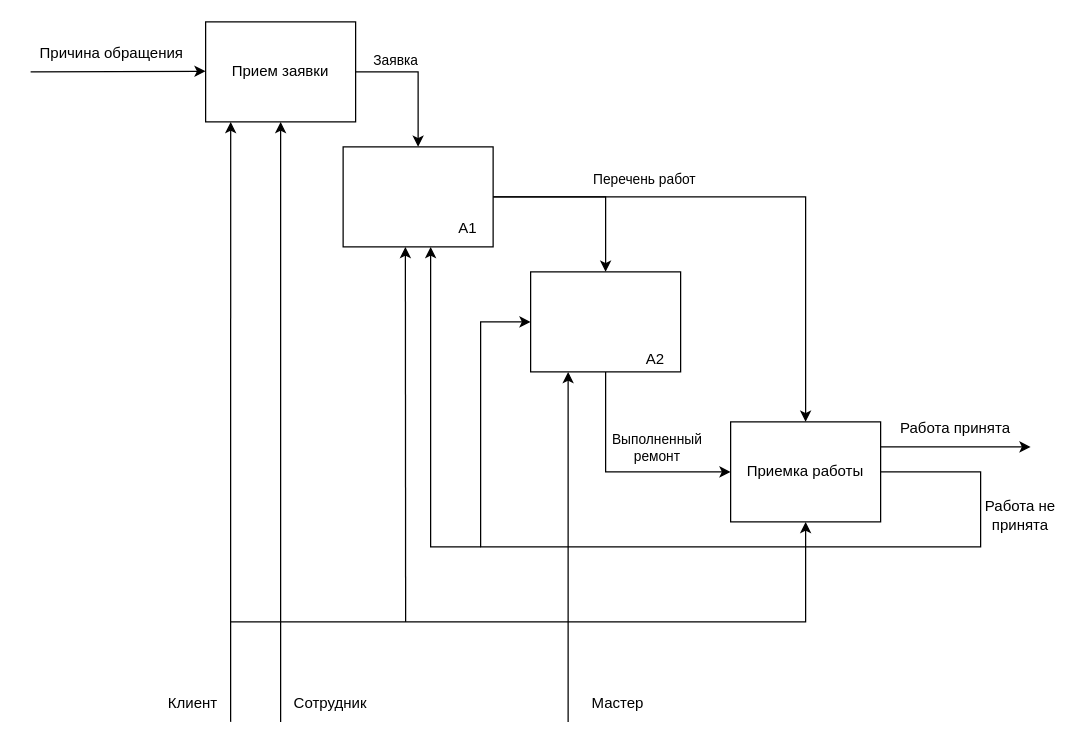
Image size: 1086x754. Some labels were removed from this diagram. Here are the shapes that lost their labels. From the top down, the box of each, then its label:
(342, 146, 493, 247): Диагностика
(529, 271, 681, 372): Выполнение ремонтных работ
